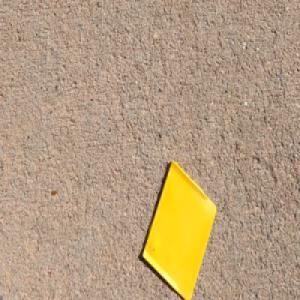PlasticPart: (141, 158, 217, 299)
